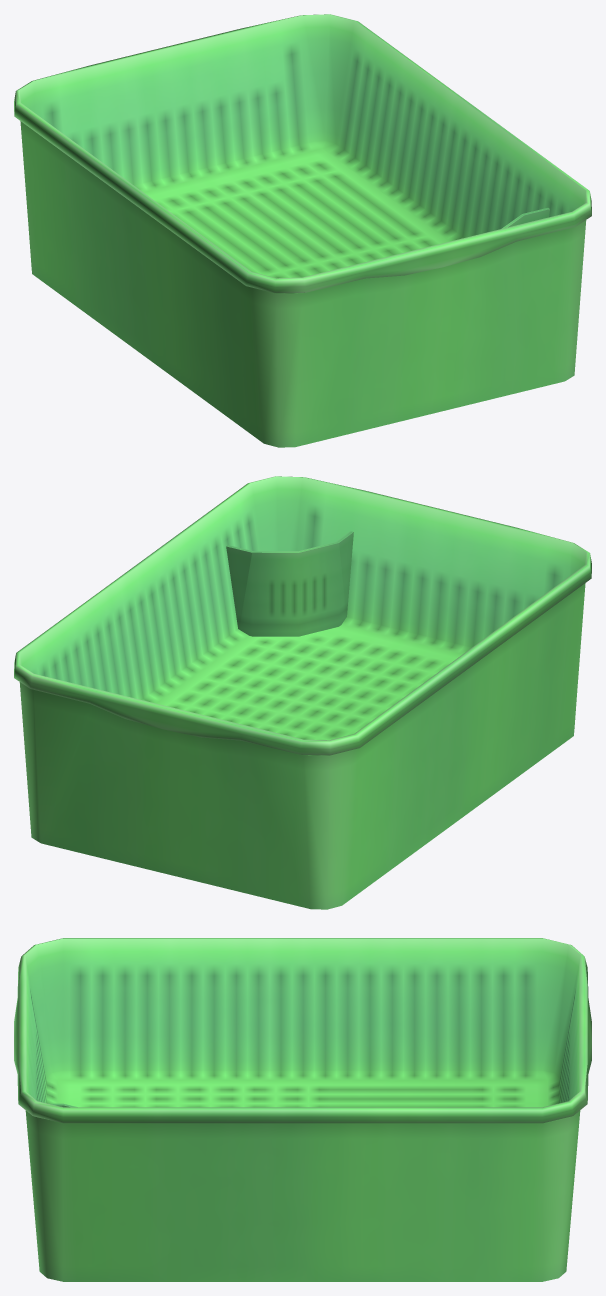
Rendered from KR_Drainer_basket_01_01.fbx.
3 views of the same model, one above another, from view 1: azimuth 30°, elevation 25°; view 2: azimuth 150°, elevation 25°; view 3: azimuth 270°, elevation 25° (orthographic). The views are drawn at different scales.
Visible parts, largest first — view 1: kr_drainer_basket_01_01; view 2: kr_drainer_basket_01_01; view 3: kr_drainer_basket_01_01.
Boxes of the visible parts, left/top/right/bottom form: kr_drainer_basket_01_01: left=14, top=14, right=591, bottom=447; kr_drainer_basket_01_01: left=14, top=476, right=591, bottom=909; kr_drainer_basket_01_01: left=14, top=938, right=591, bottom=1281.
Bounding box in the file's own units: 29 × 14 × 40.6.
